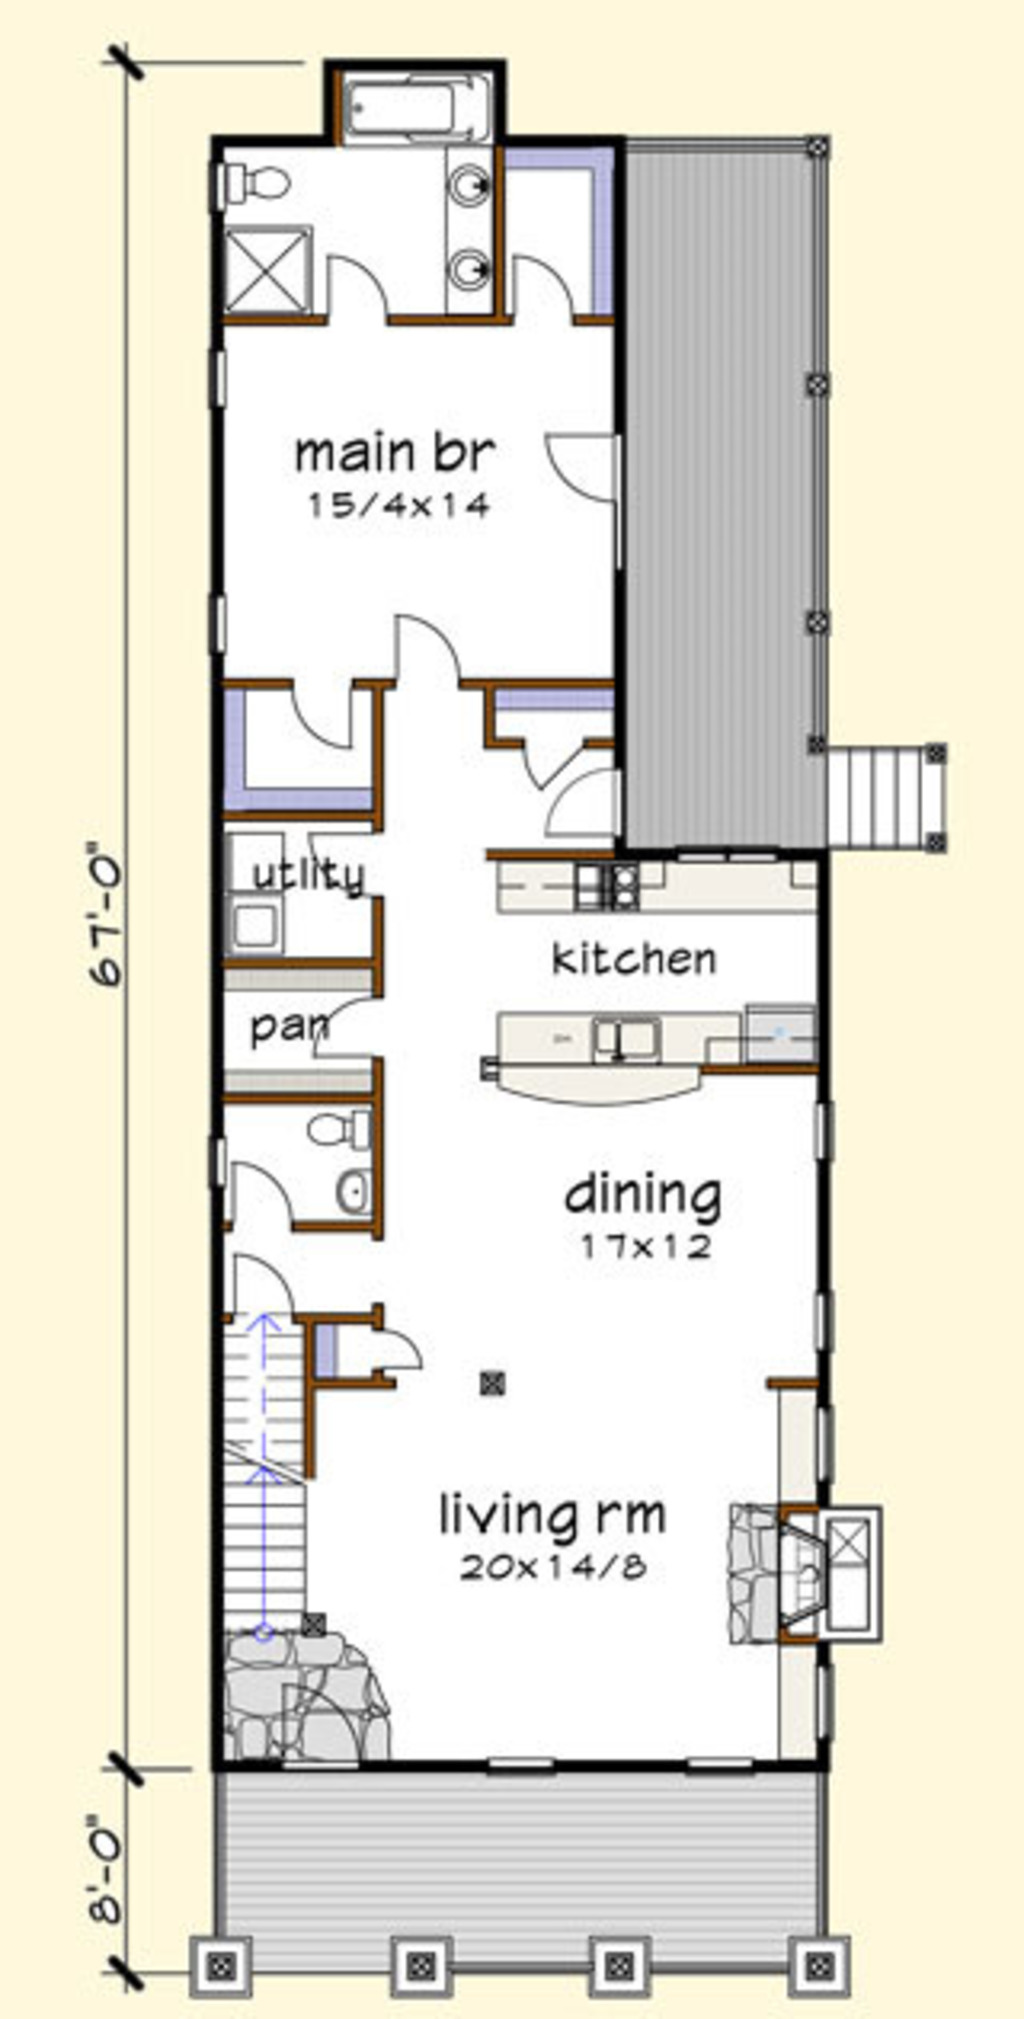door: (519, 410, 657, 505), (366, 592, 475, 688), (519, 767, 644, 844), (313, 249, 397, 360), (191, 1151, 296, 1238), (272, 675, 385, 756), (276, 996, 410, 1063), (347, 1303, 447, 1388), (491, 253, 600, 325), (313, 825, 400, 910), (494, 720, 588, 797), (219, 1256, 296, 1331)
large_sink: (200, 135, 307, 219), (294, 1097, 385, 1164)
small_sink: (444, 135, 516, 325), (310, 1156, 391, 1225)
stairs: (213, 1328, 316, 1649), (803, 725, 967, 861)
tub: (338, 67, 509, 148)
twin_sink: (566, 1016, 675, 1072)
window: (466, 1730, 560, 1785)
